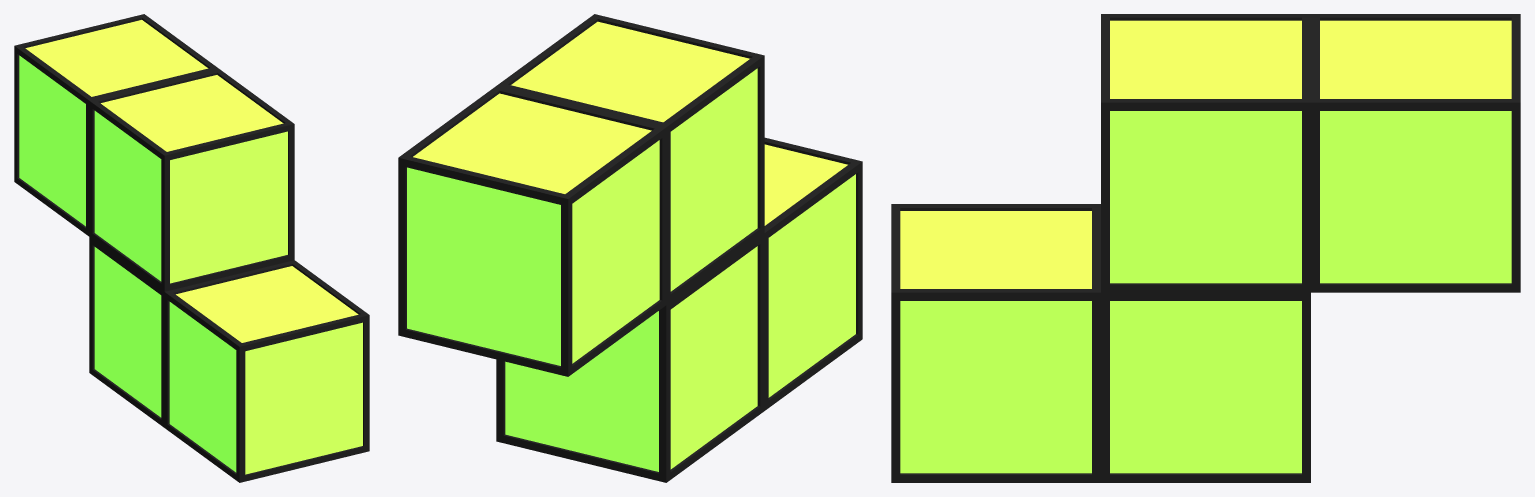
The model's file is rhode_island_z.fbx.
The picture shows the model from 3 angles, left to right: view 1: azimuth 30°, elevation 25°; view 2: azimuth 150°, elevation 25°; view 3: azimuth 270°, elevation 25°; orthographic projection. The views are drawn at different scales.
Visible parts, largest first — view 1: Rhode Island Z; view 2: Rhode Island Z; view 3: Rhode Island Z.
Part boxes in pixels (x1,y1,x2,y2): Rhode Island Z: (14, 14, 369, 482); Rhode Island Z: (398, 14, 862, 482); Rhode Island Z: (891, 14, 1520, 482).
Size of the model in its own units: 39.44 by 78.88 by 118.
